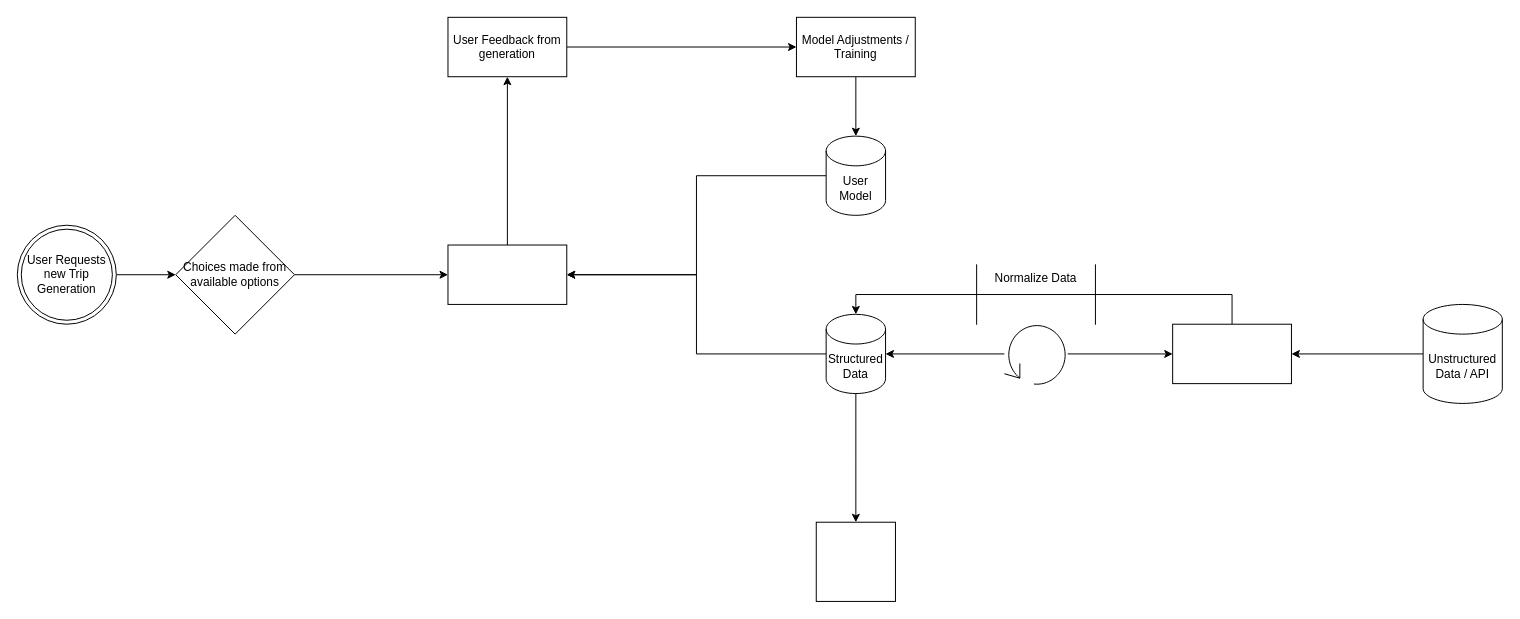
The diagram is 1520 pixels wide and 619 high, and some of its shapes have lost their labels. The box of each missing label's shape, as (x1, y1, x2, y2) in pixels:
- Locations - Events - Transport: (815, 521, 895, 601)
Daily Fetch / Update Job: (1003, 321, 1068, 386)
Data Fetcher: (1172, 323, 1291, 384)
Trip Generated: (447, 244, 567, 304)
